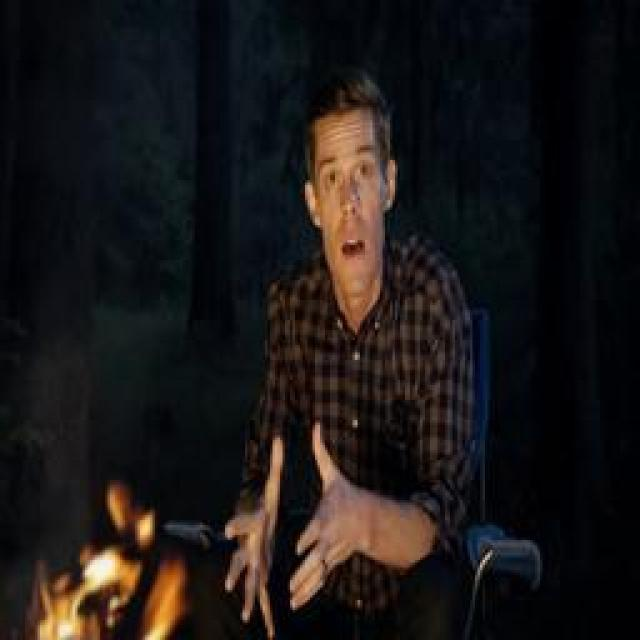Fire: (34, 485, 182, 640)
